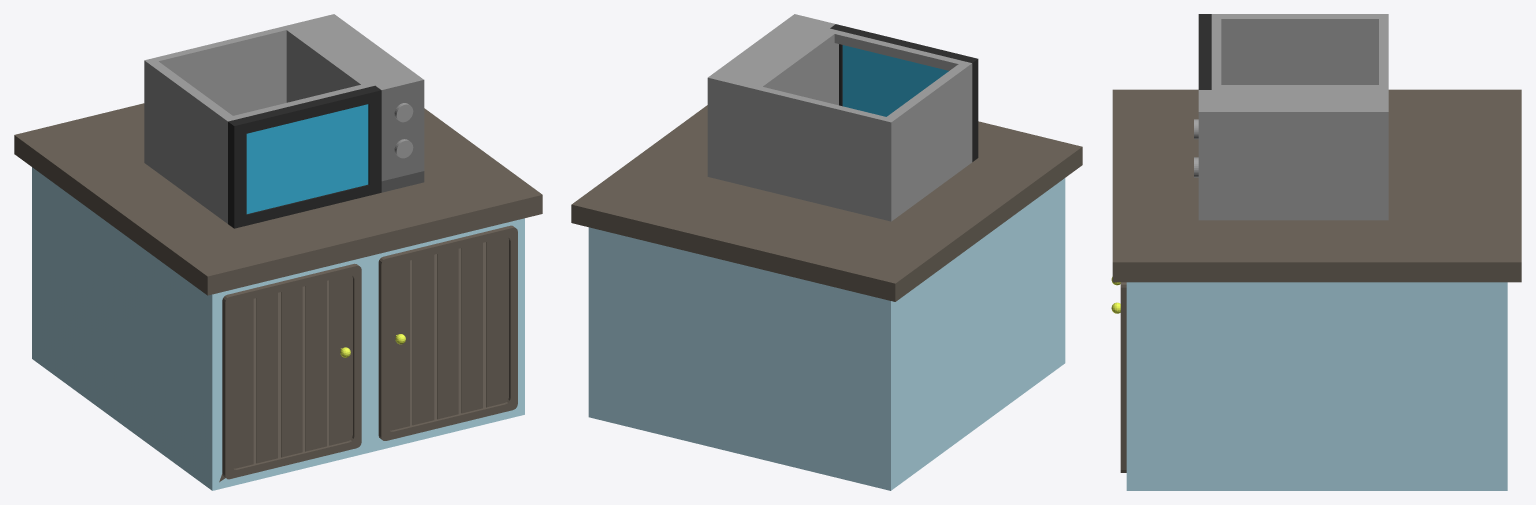
The model's file is Microwave.fbx.
The picture shows the model from 3 angles, left to right: view 1: azimuth 30°, elevation 25°; view 2: azimuth 150°, elevation 25°; view 3: azimuth 270°, elevation 25°; orthographic projection. The views are drawn at different scales.
Visible parts, largest first — view 1: Countertop.M, Door; view 2: Countertop.M, Door; view 3: Countertop.M, Door.
Part boxes in pixels (x1,y1,x2,y2): Countertop.M: (14, 14, 542, 490); Door: (228, 85, 381, 228); Countertop.M: (571, 14, 1082, 490); Door: (830, 24, 978, 161); Countertop.M: (1111, 14, 1521, 490); Door: (1198, 14, 1211, 89).
Bounding box in the file's own units: 346 × 322 × 347.
